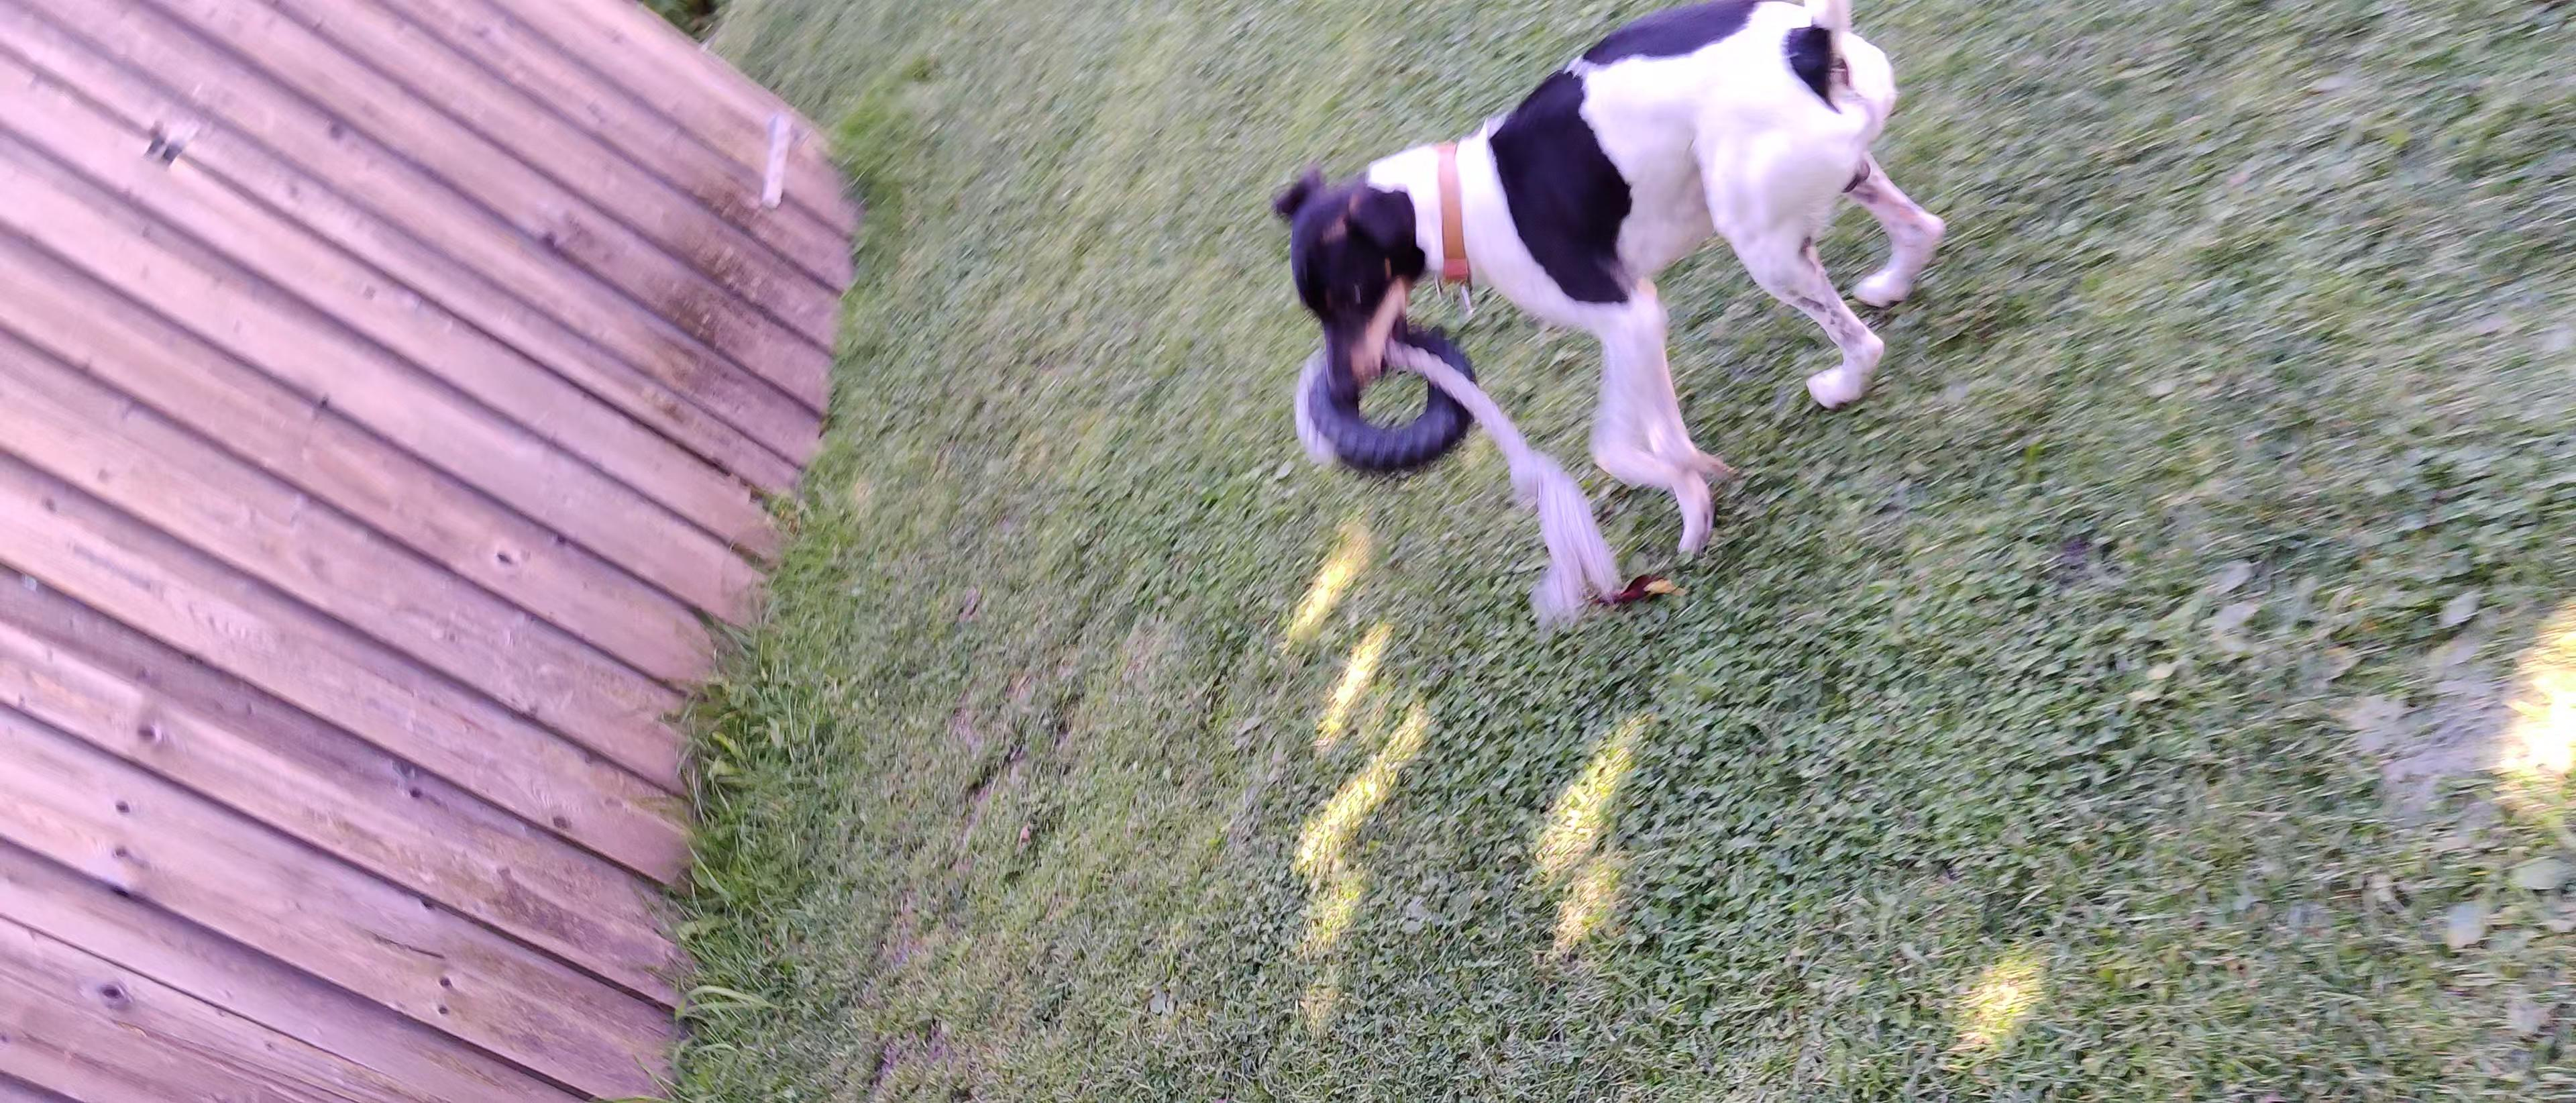Dog: (1267, 3, 1950, 561)
